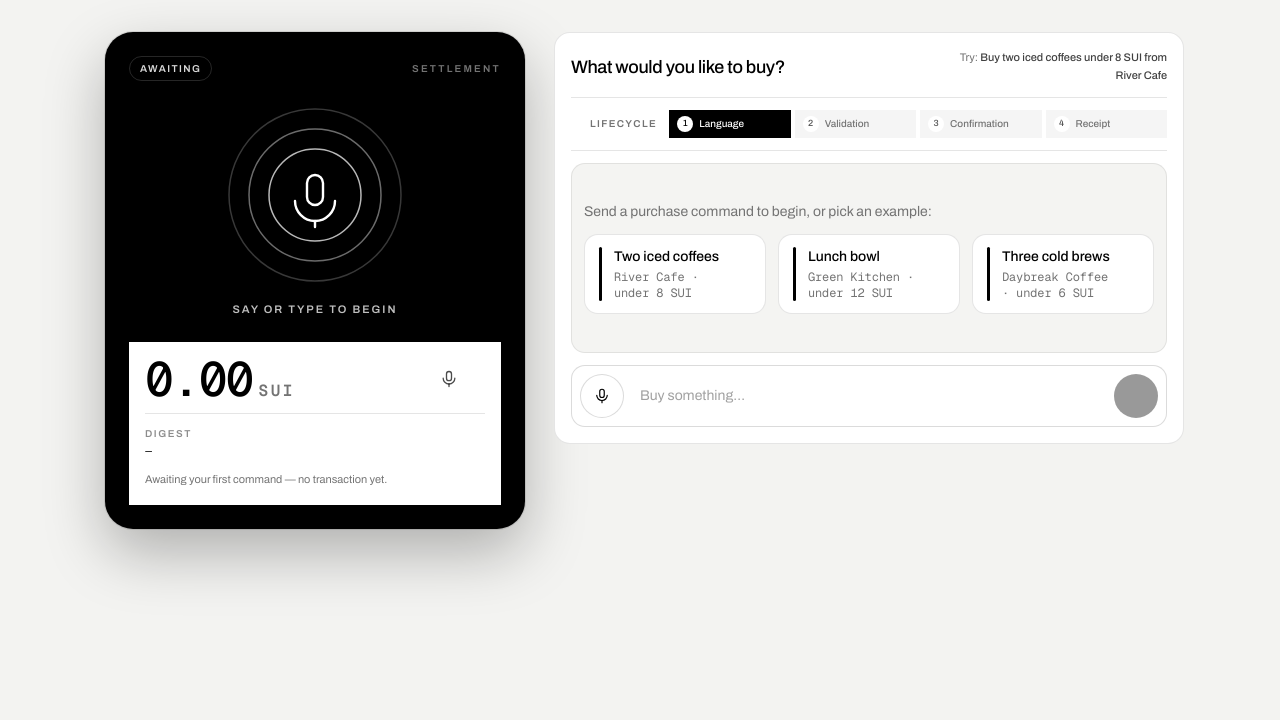
Test: CommerceChat — error recovery › renders an error message on a non-OK HTTP response
Step 1. Type "Buy two iced coffees under 8 SUI from River Cafe" into the text box → (869,396), box [632, 374, 1106, 418]
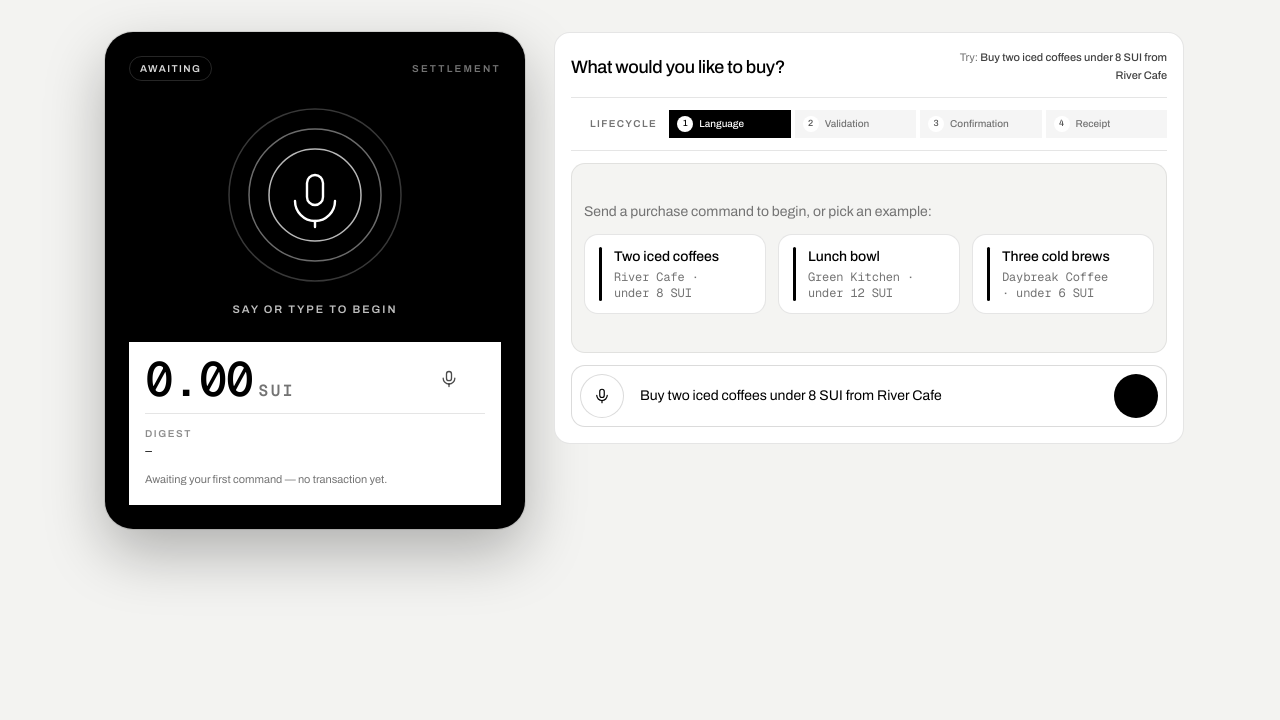
Step 2. Click the button named "send" → (1136,396), box [1114, 374, 1158, 418]
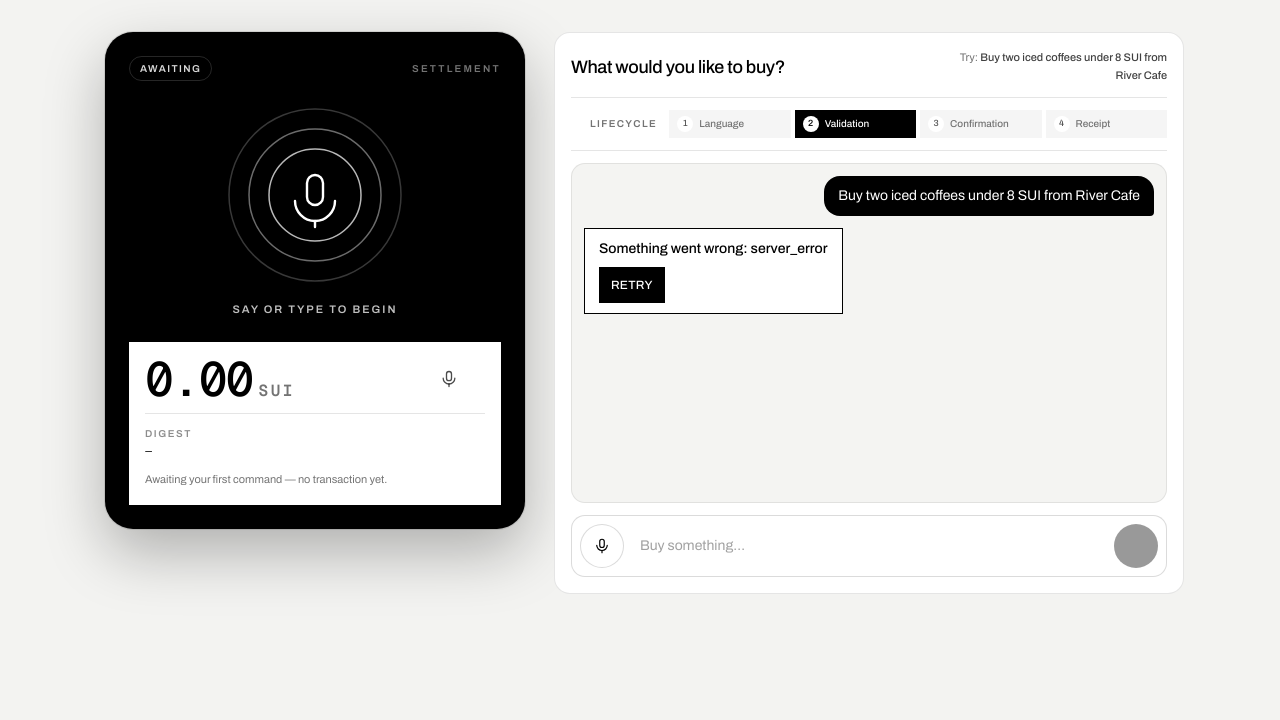
Expected: the message reads "Something went wrong: server_error Retry", [750, 241, 828, 256]
